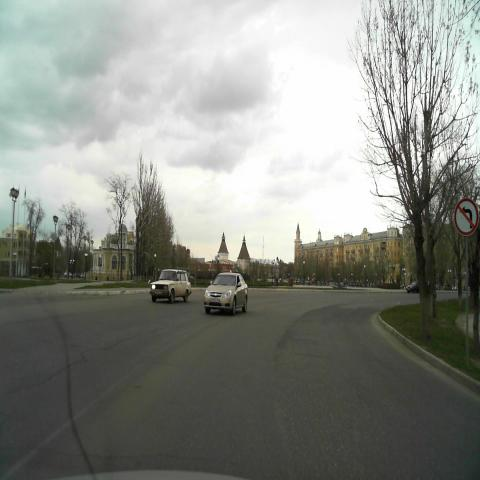3_18_2: (452, 196, 480, 239)
